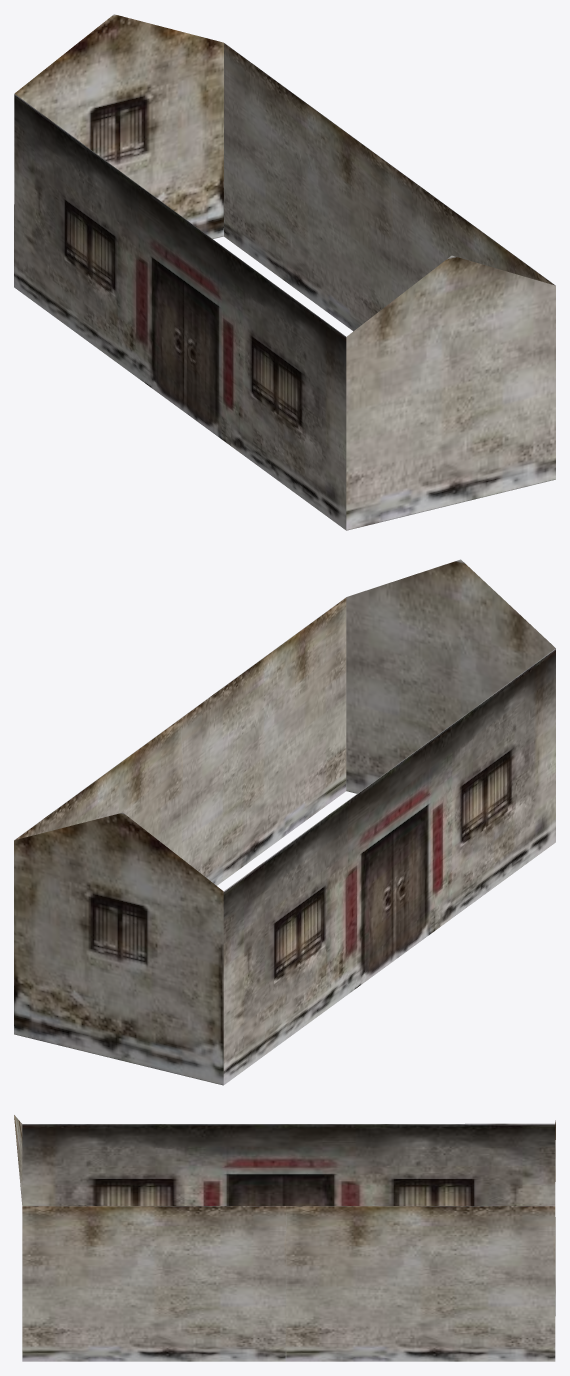
The model's file is fang03.obj.
3 renders of one model, top to bottom at view 1: azimuth 30°, elevation 25°; view 2: azimuth 150°, elevation 25°; view 3: azimuth 270°, elevation 25°, orthographic. The views are drawn at different scales.
Parts seen in each view (by area): view 1: fang03; view 2: fang03; view 3: fang03.
Part boxes in pixels (x1=…): fang03: x1=14, y1=14, x2=555, y2=530; fang03: x1=14, y1=559, x2=555, y2=1085; fang03: x1=14, y1=1115, x2=555, y2=1361.
Bounding box in the file's own units: 82.6 × 95.82 × 230.
